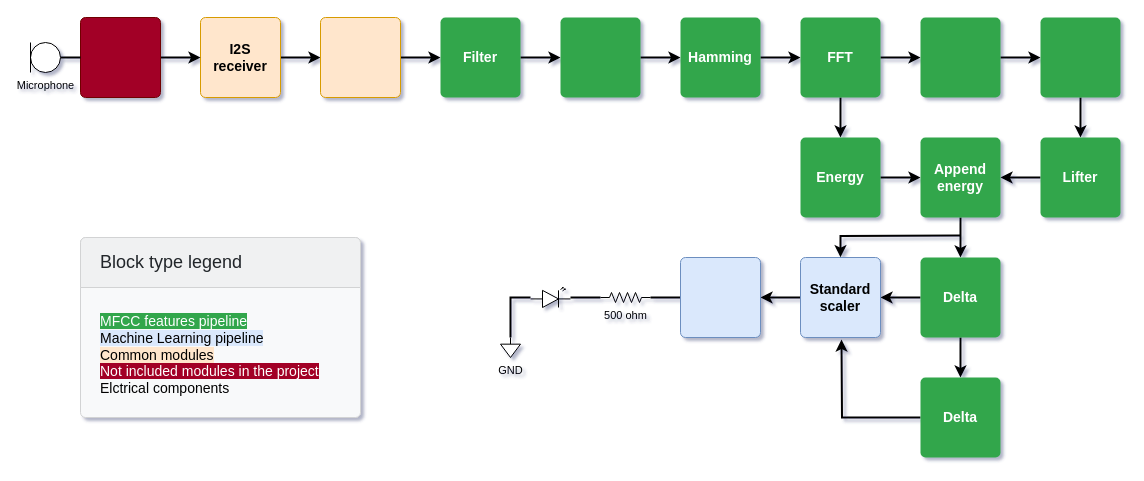
Some shapes in this 1144 by 481 pixel diagram are drawn without their labels. The centre of each missing label's shape, as x and y in pixels:
ADC scheme: point (120, 57)
Converter to float32: point (360, 57)
DCT - 2: point (1080, 57)
DNN: point (720, 297)
Filter banks: point (960, 57)
Framing: point (600, 57)
LED: point (550, 297)
